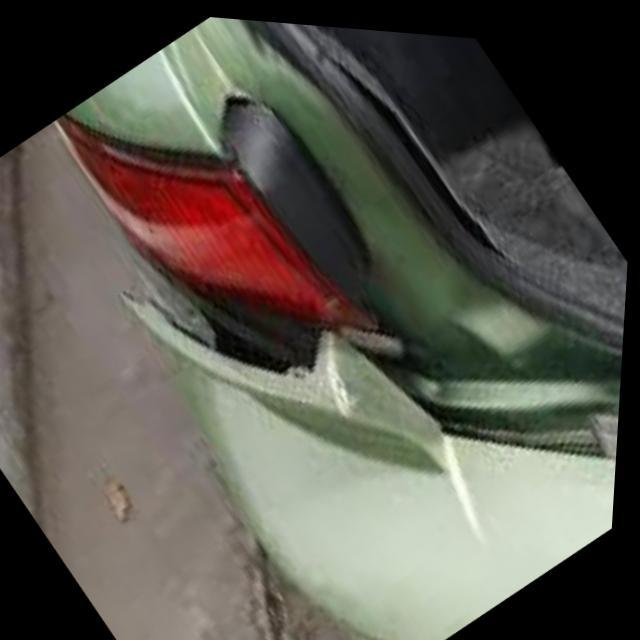crack: (110, 209, 626, 457)
